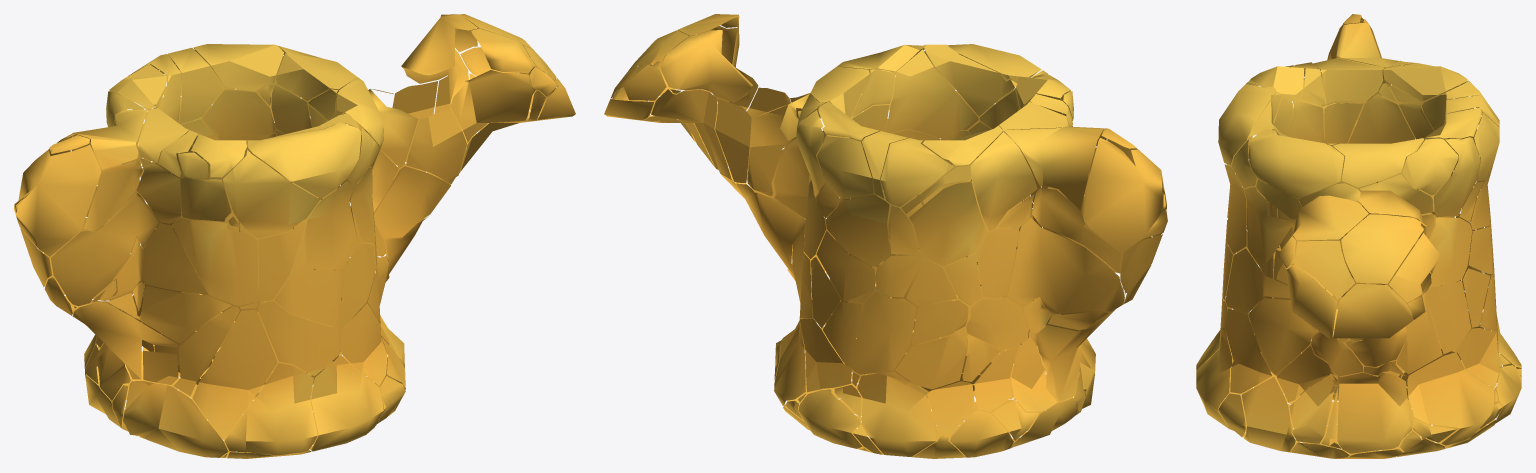
The model's file is Watering Can.fbx.
The picture shows the model from 3 angles, left to right: view 1: azimuth 30°, elevation 25°; view 2: azimuth 150°, elevation 25°; view 3: azimuth 270°, elevation 25°; orthographic projection.
Parts seen in each view (by area): view 1: watering_can_B_cell.089, watering_can_B_cell.009, watering_can_B_cell.107, watering_can_B_cell.108, watering_can_B_cell.115, watering_can_B_cell.095, watering_can_B_cell.091, watering_can_B_cell.133, watering_can_B_cell.131, watering_can_B_cell.250, watering_can_B_cell.283, watering_can_B_cell.078 (+48 smaller); view 2: watering_can_B_cell.074, watering_can_B_cell.089, watering_can_B_cell.193, watering_can_B_cell.242, watering_can_B_cell.134, watering_can_B_cell.155, watering_can_B_cell.271, watering_can_B_cell.072, watering_can_B_cell.043, watering_can_B_cell.052, watering_can_B_cell.077, watering_can_B_cell.009 (+60 smaller); view 3: watering_can_B_cell.189, watering_can_B_cell.190, watering_can_B_cell.259, watering_can_B_cell.226, watering_can_B_cell.215, watering_can_B_cell.251, watering_can_B_cell.209, watering_can_B_cell.257, watering_can_B_cell.218, watering_can_B_cell.112, watering_can_B_cell.118, watering_can_B_cell.095 (+57 smaller).
Part boxes in pixels (x1,y1,x2,y2): watering_can_B_cell.089: (14, 133, 100, 256); watering_can_B_cell.009: (38, 186, 158, 306); watering_can_B_cell.107: (192, 309, 277, 439); watering_can_B_cell.108: (224, 363, 317, 455); watering_can_B_cell.115: (172, 210, 258, 305); watering_can_B_cell.095: (246, 122, 361, 198); watering_can_B_cell.091: (122, 381, 228, 457); watering_can_B_cell.133: (223, 149, 319, 238); watering_can_B_cell.131: (310, 355, 383, 451); watering_can_B_cell.250: (257, 290, 341, 376); watering_can_B_cell.283: (450, 70, 535, 142); watering_can_B_cell.078: (107, 285, 232, 342); watering_can_B_cell.074: (1007, 217, 1125, 314); watering_can_B_cell.089: (1081, 138, 1167, 251); watering_can_B_cell.193: (857, 371, 938, 456); watering_can_B_cell.242: (886, 49, 978, 137); watering_can_B_cell.134: (1004, 126, 1106, 209); watering_can_B_cell.155: (909, 181, 987, 266); watering_can_B_cell.271: (660, 30, 752, 102); watering_can_B_cell.072: (851, 291, 916, 374); watering_can_B_cell.043: (970, 132, 1037, 231); watering_can_B_cell.052: (825, 194, 889, 266); watering_can_B_cell.077: (880, 138, 953, 206); watering_can_B_cell.009: (1032, 188, 1151, 283); watering_can_B_cell.189: (1337, 372, 1412, 453); watering_can_B_cell.190: (1407, 352, 1494, 445); watering_can_B_cell.259: (1248, 129, 1344, 198); watering_can_B_cell.226: (1341, 214, 1426, 283); watering_can_B_cell.215: (1333, 284, 1413, 338); watering_can_B_cell.251: (1248, 298, 1314, 374); watering_can_B_cell.209: (1241, 377, 1300, 452); watering_can_B_cell.257: (1332, 138, 1423, 187); watering_can_B_cell.218: (1292, 195, 1368, 240); watering_can_B_cell.112: (1225, 308, 1271, 393); watering_can_B_cell.118: (1313, 58, 1384, 105); watering_can_B_cell.095: (1218, 84, 1275, 165).
Size of the model in its own units: 113 by 63.33 by 59.88.
